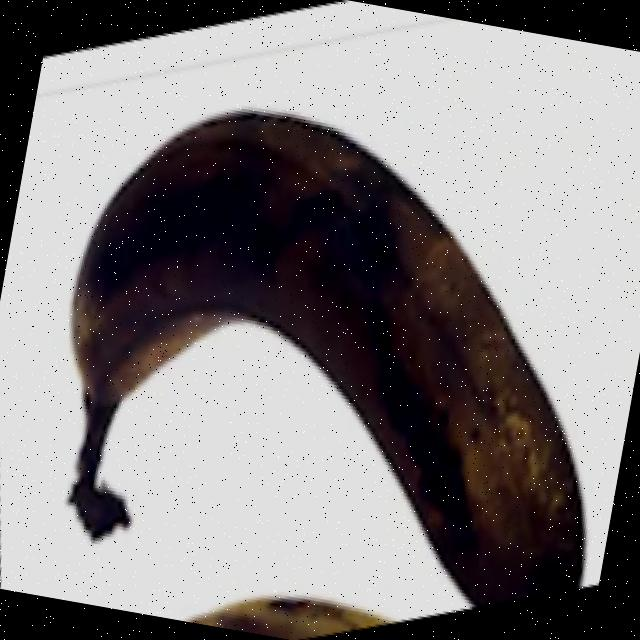Rotten: (25, 81, 640, 625)
